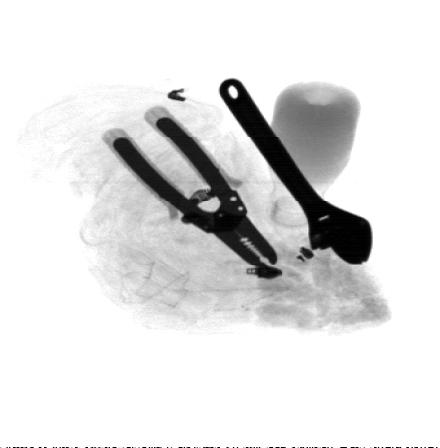Pliers: (101, 105, 278, 267)
Wrench: (220, 78, 374, 266)
